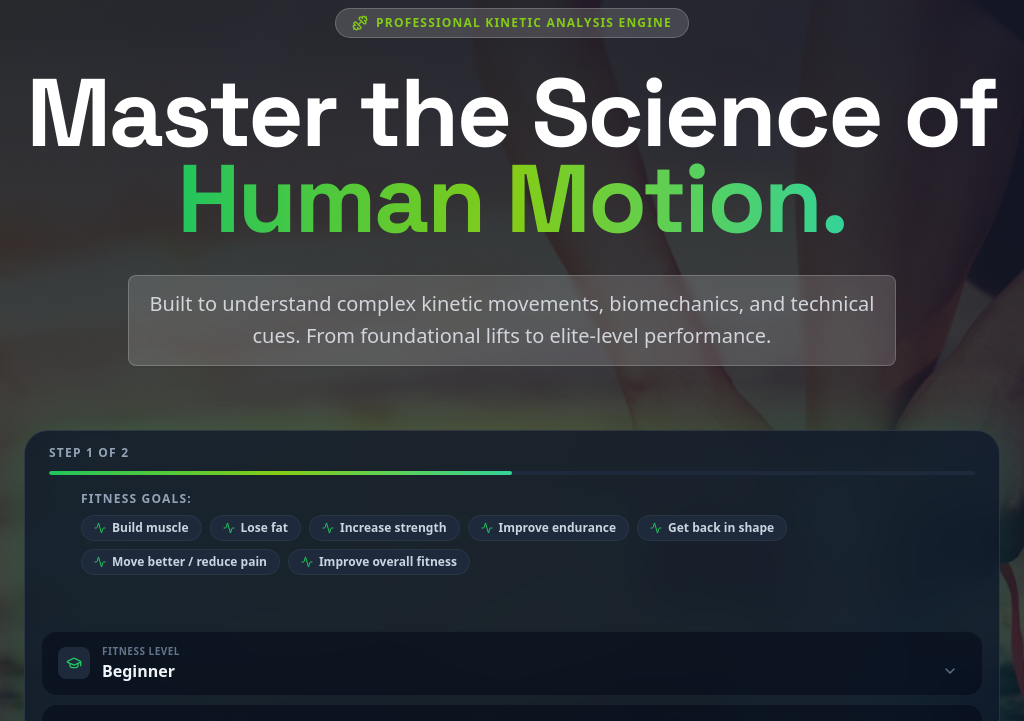
OnboardingWizard › should navigate to step 2 when continue is clicked with valid data
What coordinates should you click on to do the following:
click the button "Build muscle"
I would click on:
 (141, 528)
Its box is x1=81 y1=515 x2=202 y2=541.
(page scrolled)
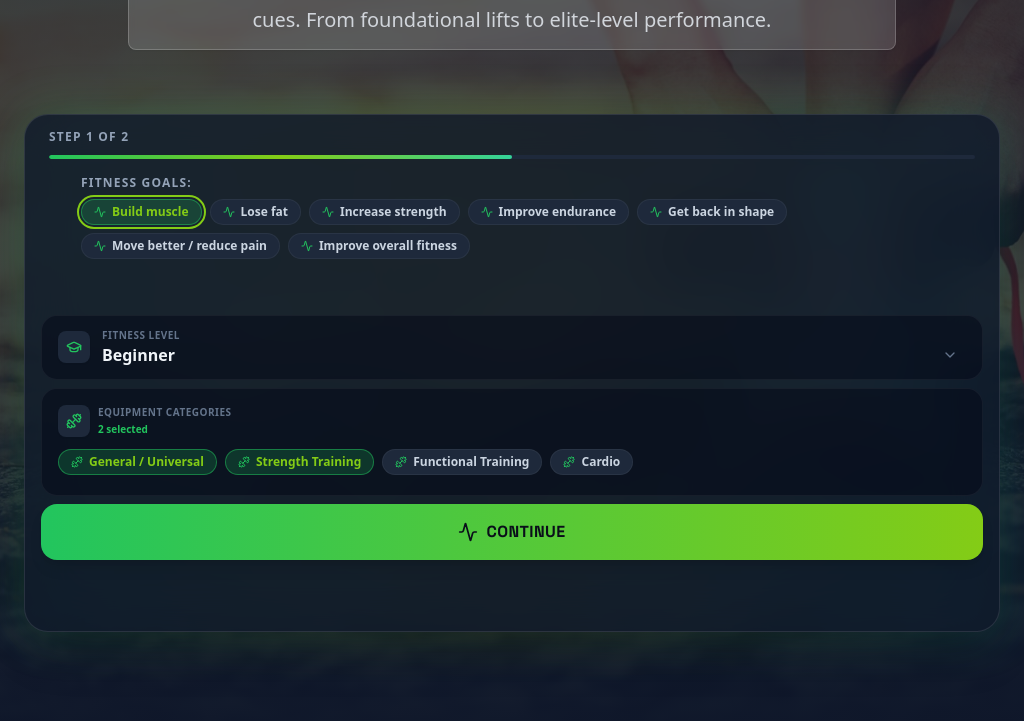
// Click continue
What coordinates should you click on to do the following:
click the button "CONTINUE"
I would click on:
 (512, 532)
Its box is x1=41 y1=504 x2=983 y2=560.
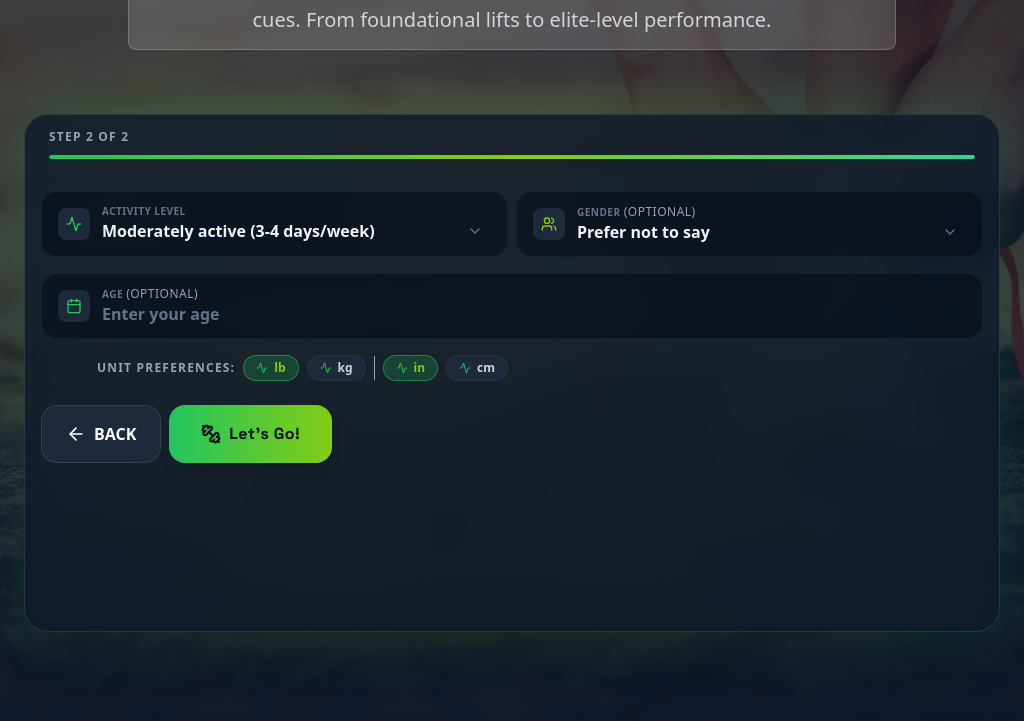
Now the text "Step 2 of 2" is shown, box x1=49 y1=128 x2=129 y2=145
